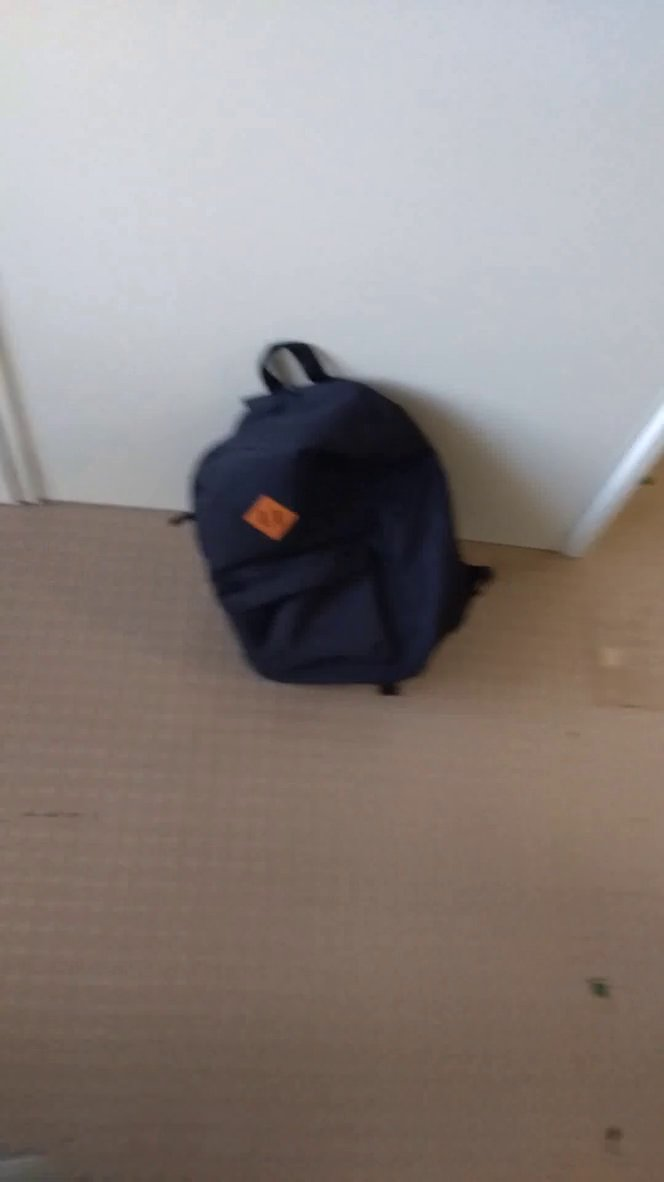bag: (160, 328, 497, 724)
